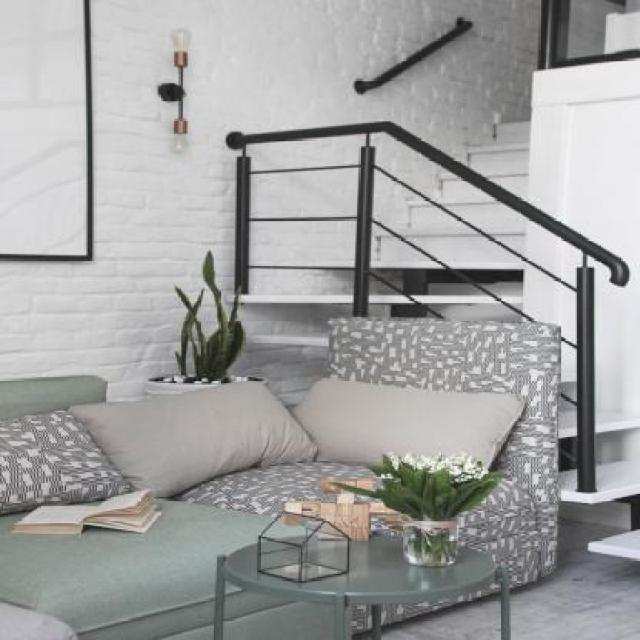stair: (194, 68, 638, 580)
